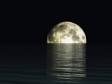moon: (46, 22, 87, 43)
